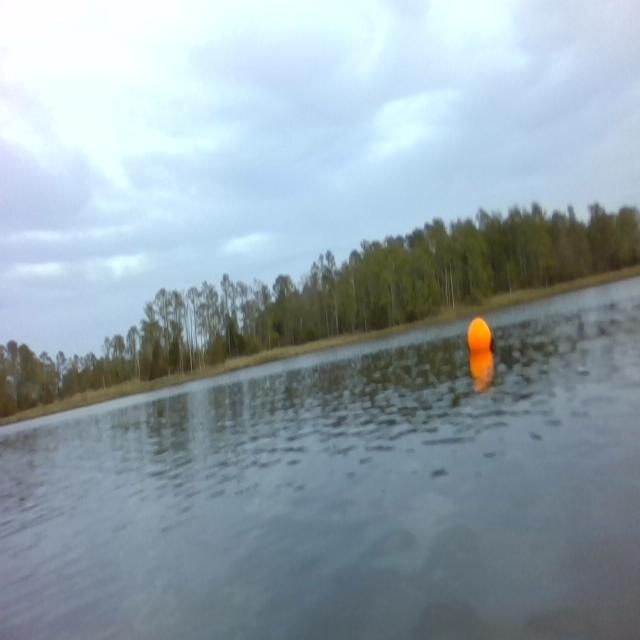Buoy: (464, 313, 499, 359)
